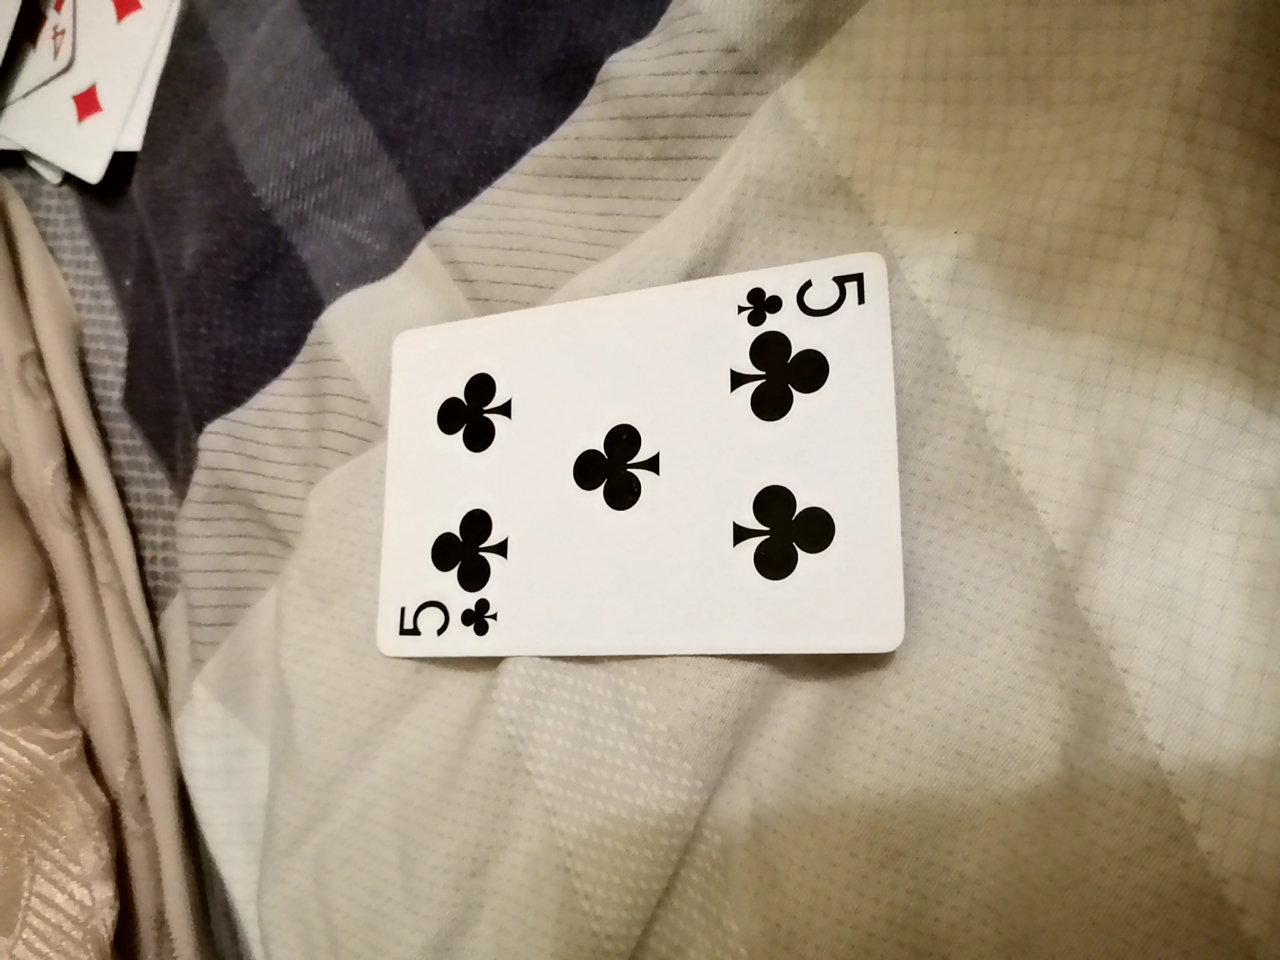mh 5: (364, 220, 913, 668)
